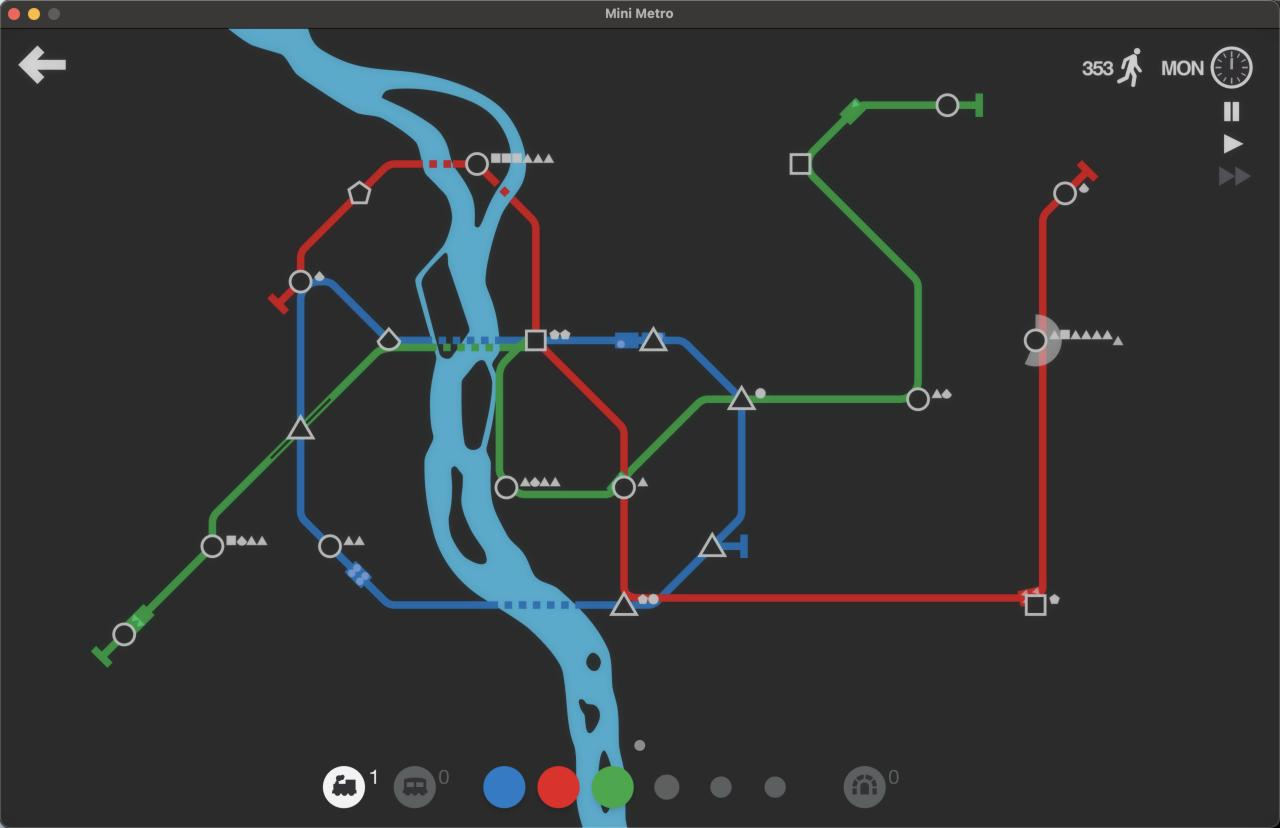CIRCLE: (610, 474, 637, 500), (1052, 181, 1078, 206), (493, 475, 519, 500), (1023, 326, 1048, 352), (200, 534, 225, 559), (465, 151, 489, 176), (288, 269, 313, 293), (935, 92, 959, 117), (112, 622, 136, 647), (318, 534, 342, 559), (906, 387, 930, 412)
PENTAGON: (347, 180, 371, 205)
SQUARE: (524, 328, 548, 352), (1024, 593, 1047, 617), (789, 152, 811, 175)
TRIANGLE: (726, 384, 757, 411), (697, 532, 727, 559), (638, 325, 668, 352), (609, 591, 639, 618), (287, 414, 315, 441)
WEDGE: (377, 326, 402, 351)
